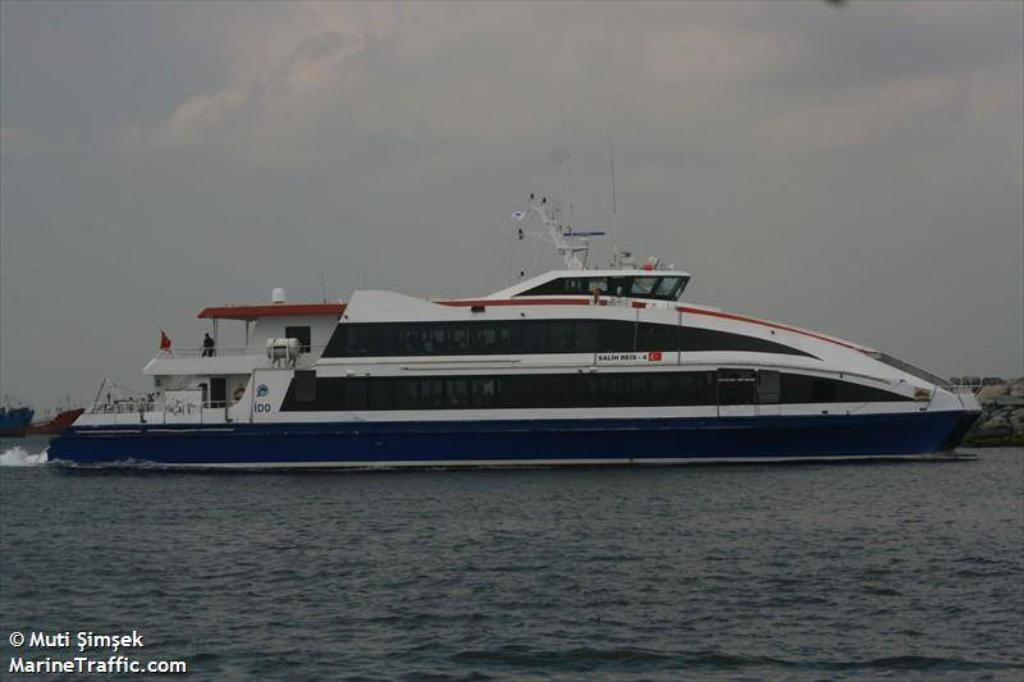PassengerShip: (59, 187, 983, 473)
